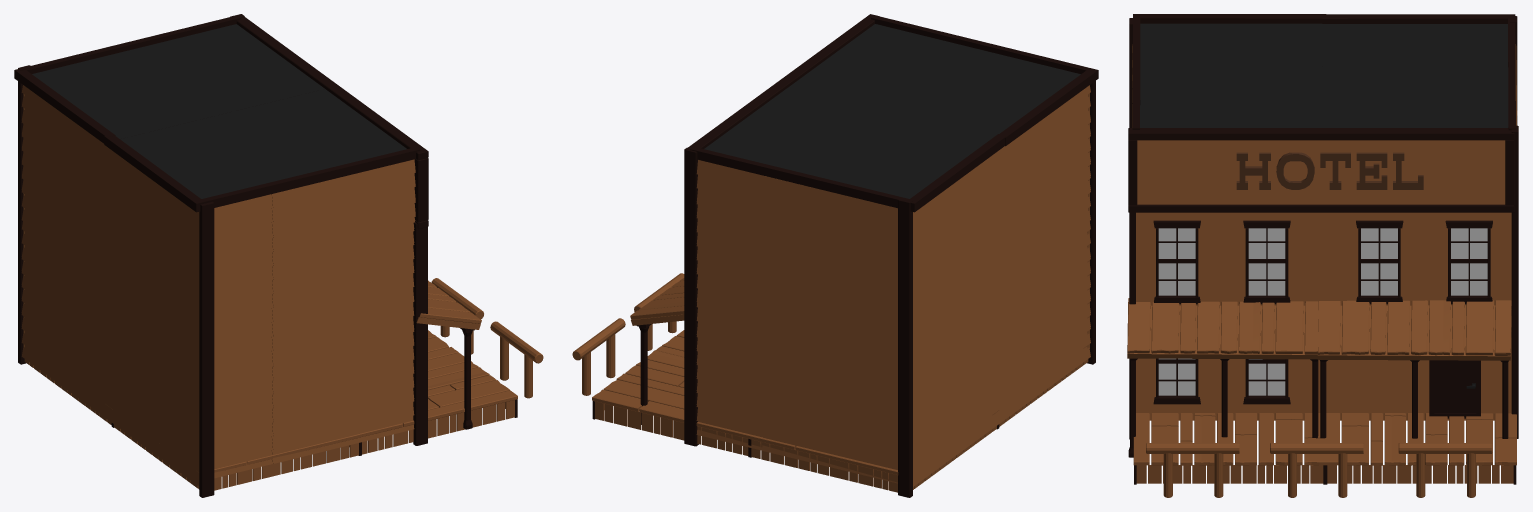
Rendered from hotel.obj.
3 views of the same model, side by side, from view 1: azimuth 30°, elevation 25°; view 2: azimuth 150°, elevation 25°; view 3: azimuth 270°, elevation 25° (orthographic). The views are drawn at different scales.
Parts seen in each view (by area): view 1: Hitching_Post.018; view 2: Hitching_Post.018; view 3: Hitching_Post.018.
Part boxes in pixels (left/top/right/bottom): Hitching_Post.018: left=14, top=14, right=543, bottom=497; Hitching_Post.018: left=572, top=14, right=1098, bottom=497; Hitching_Post.018: left=1127, top=14, right=1518, bottom=497.
Size of the model in its own units: 7.3 by 5.82 by 6.68.
